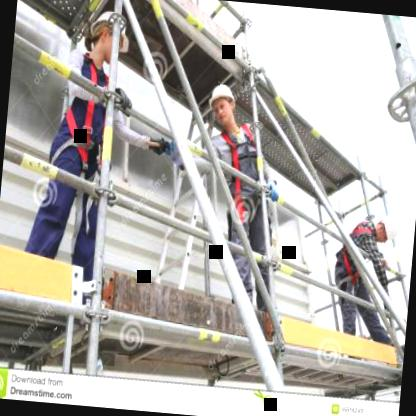helmet: (86, 5, 134, 72), (206, 78, 240, 130), (373, 212, 402, 247)
